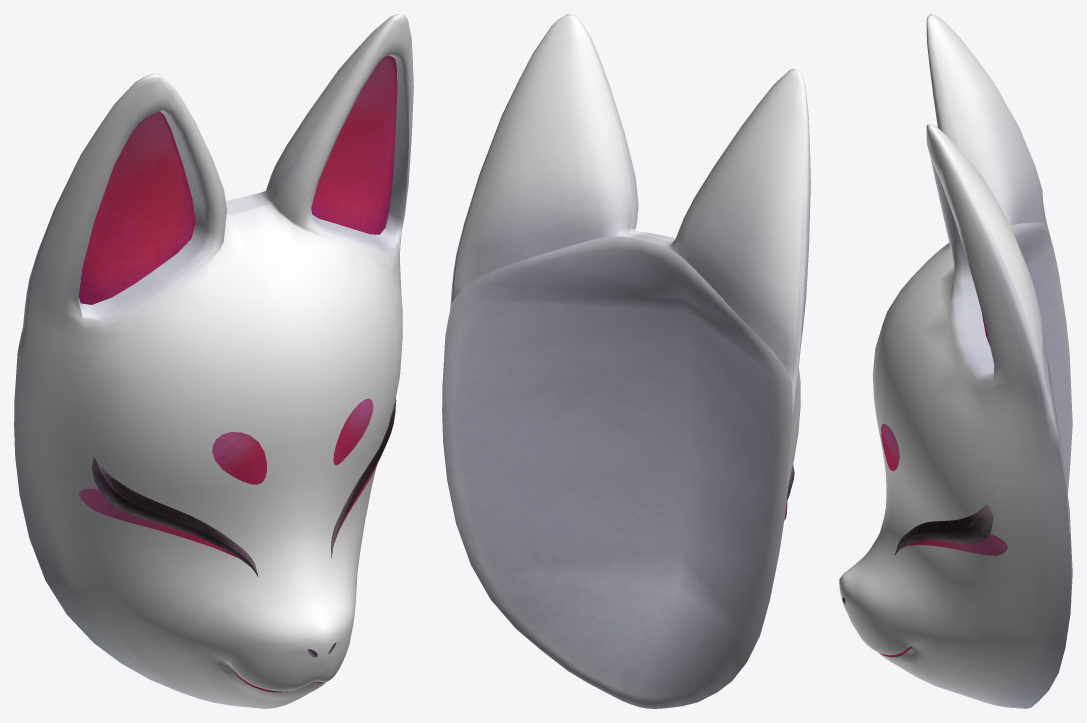
Rendered from white_fox_mask.glb.
The picture shows the model from 3 angles, left to right: view 1: azimuth 30°, elevation 25°; view 2: azimuth 150°, elevation 25°; view 3: azimuth 270°, elevation 25°; orthographic projection. The views are drawn at different scales.
Parts seen in each view (by area): view 1: Mask.Low; view 2: Mask.Low; view 3: Mask.Low.
Boxes of the visible parts, <box> form: Mask.Low: <box>14,14,413,708</box>; Mask.Low: <box>442,14,810,708</box>; Mask.Low: <box>839,14,1072,708</box>.
Size of the model in its own units: 0.1545 by 0.2695 by 0.0903.
Materials: 1 (1 with a texture image).
